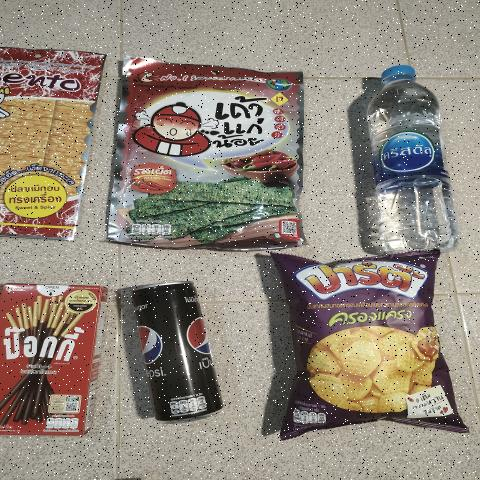bento_red: (0, 52, 106, 230)
crystal: (360, 51, 468, 263)
party_purple: (284, 264, 448, 418)
pepsi_black: (129, 278, 231, 430)
pokki: (1, 283, 96, 437)
taokaenoi: (130, 69, 291, 239)
